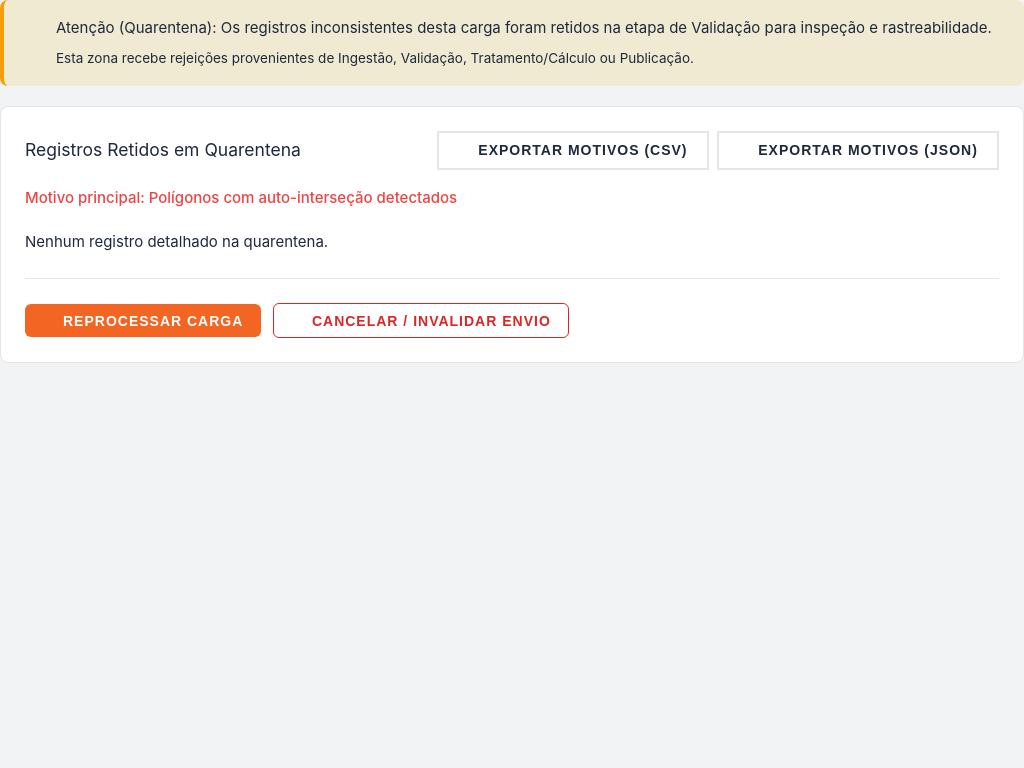
Test: Etapas do Processo de Carga (Pipeline, Quarentena, Publicação e Auditoria) › Etapa de Quarentena e Resolução de Erros (ProcessStageQuarentena) › confirma cancelamento/invalidação mantendo integridade do arquivo bruto para auditoria
Note: Cancelamento abortado pelo usuário
Click the button with test id "btn-open-cancel-modal" at (421, 321), box [273, 303, 569, 338]
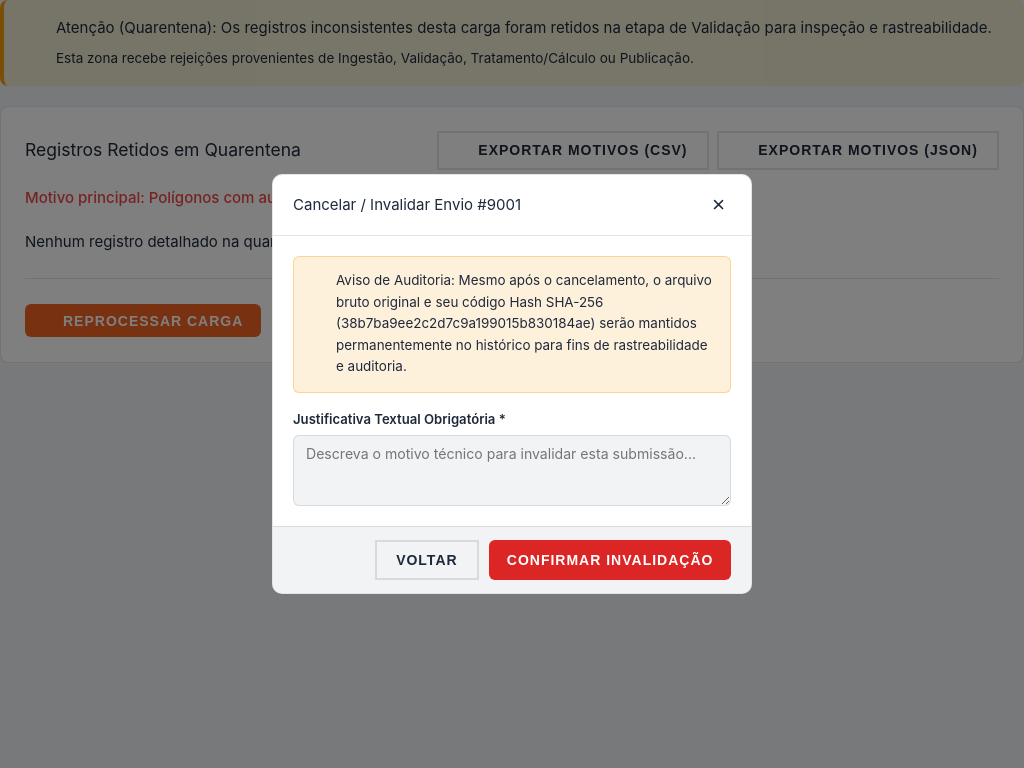
expect the element with test id "hash-retention-warning" shows "arquivo bruto original": met, box [336, 272, 712, 310]
Click the button "Voltar" at (427, 560), box [375, 540, 479, 580]
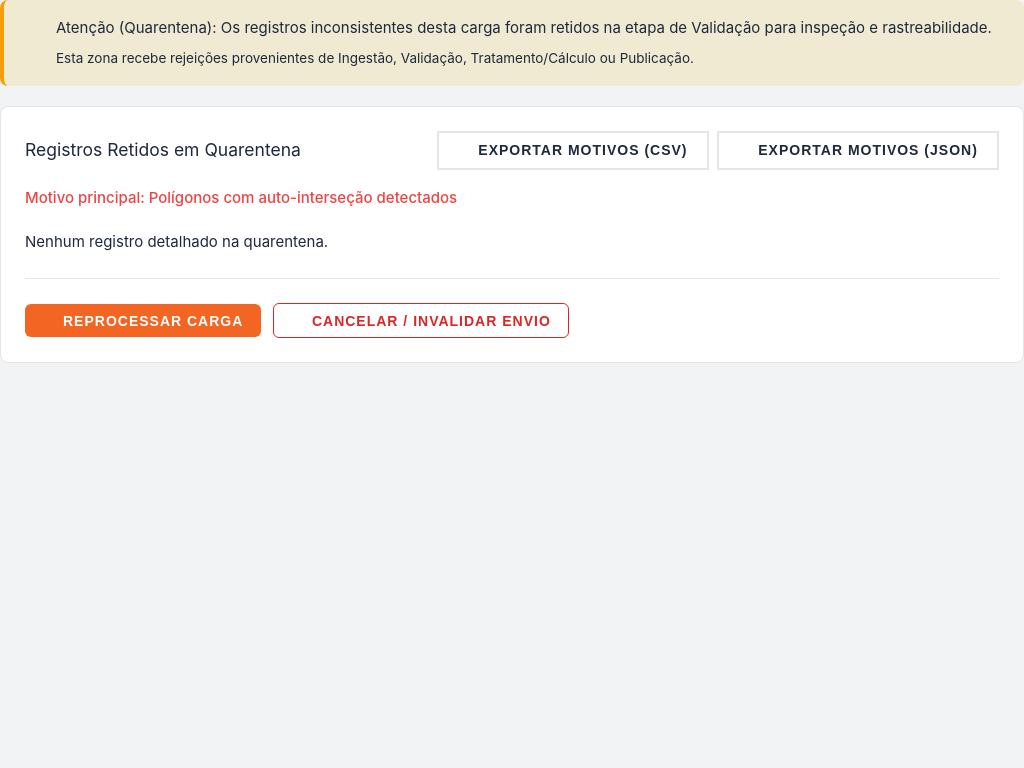
Note: Confirmação com parecer
Click the button with test id "btn-open-cancel-modal" at (421, 321), box [273, 303, 569, 338]
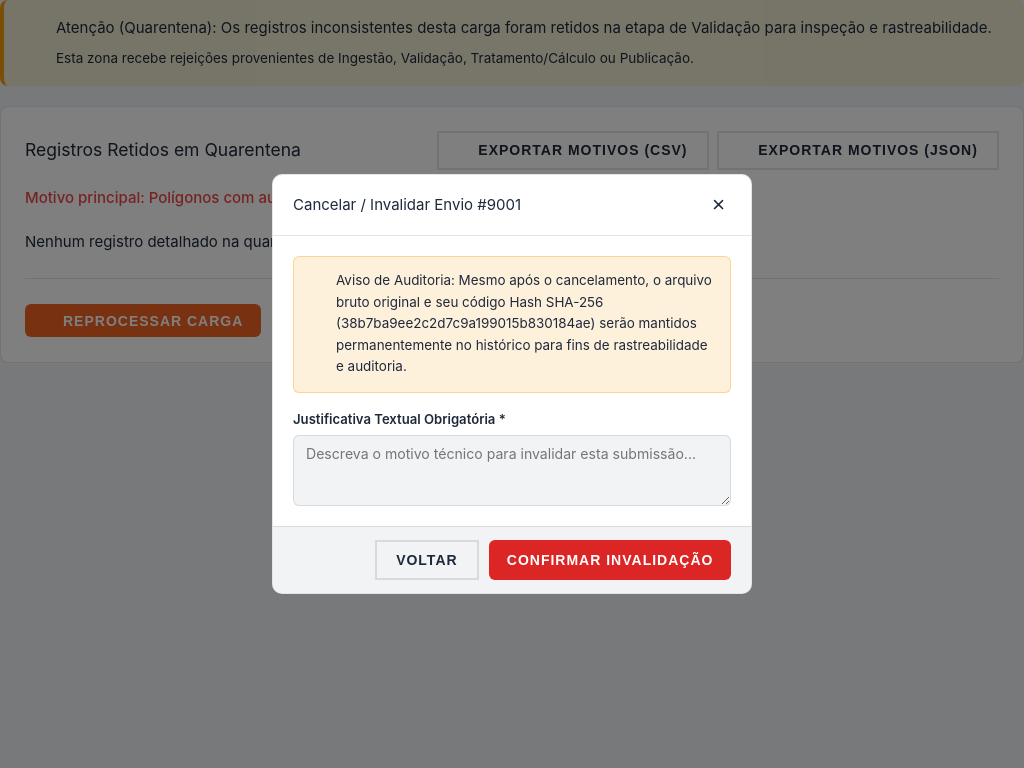
Type "Arquivo enviado por engano" into the text box with test id "input-cancel-justification" at (512, 470), box [293, 435, 731, 506]
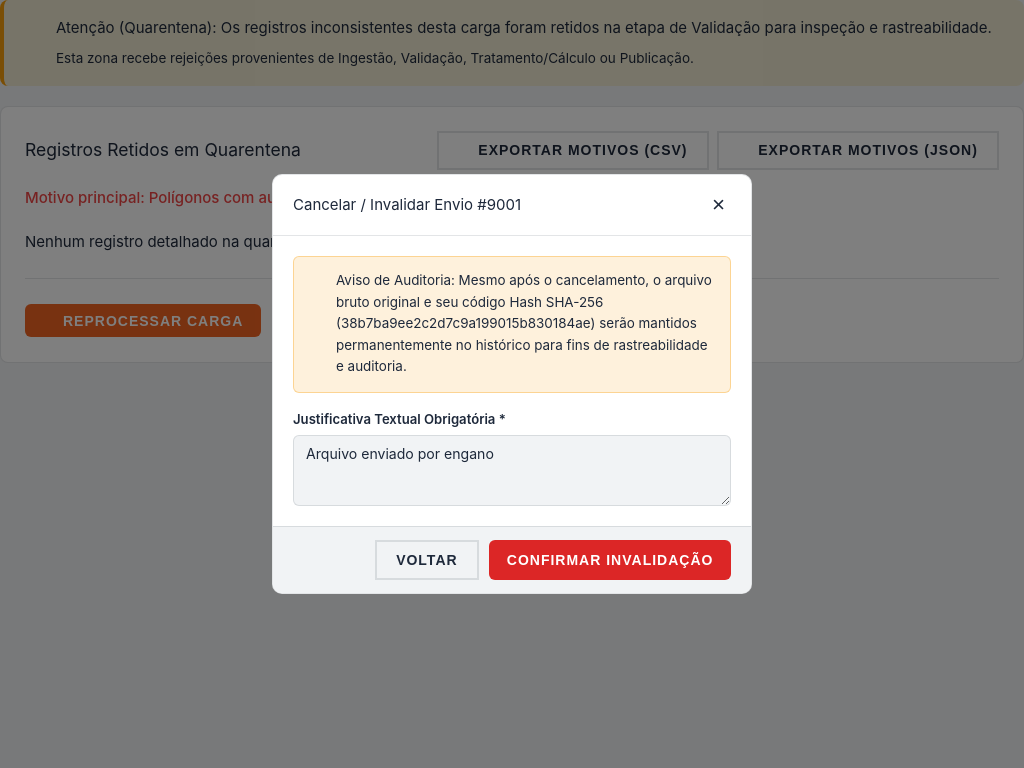
Click the button with test id "btn-confirm-cancel" at (610, 560), box [489, 540, 731, 580]
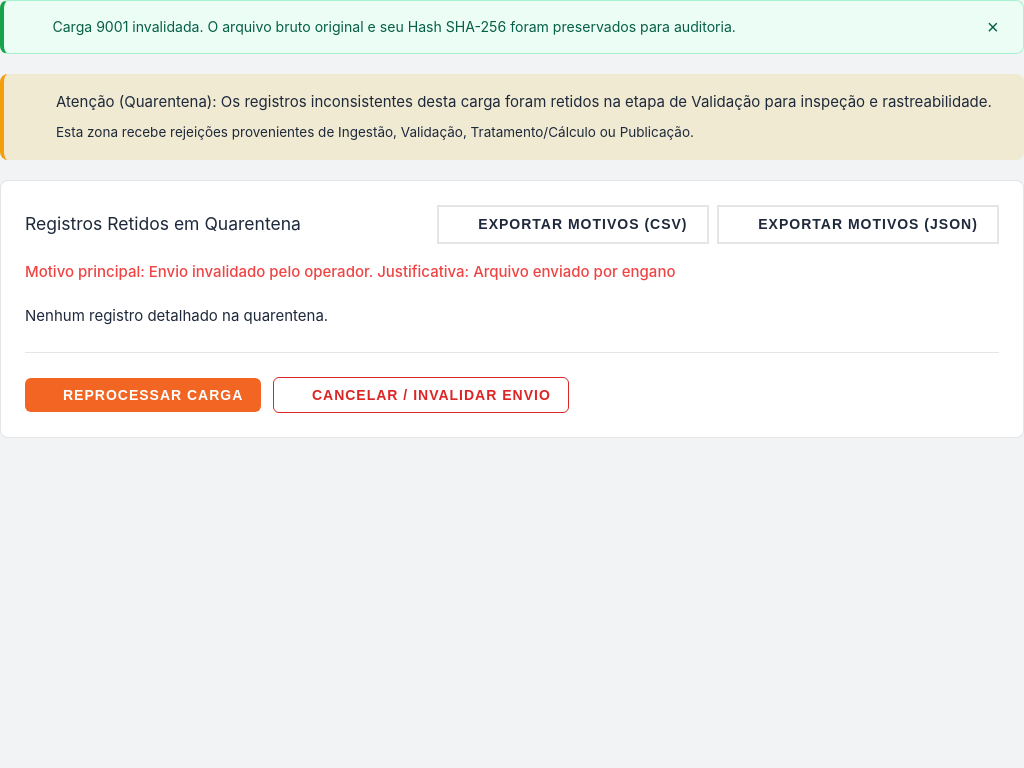
expect the message with test id "quarantine-success-toast" is shown: met, box [0, 0, 1023, 54]
expect the message with test id "quarantine-success-toast" shows "preservados para auditoria": met, box [52, 18, 736, 35]
